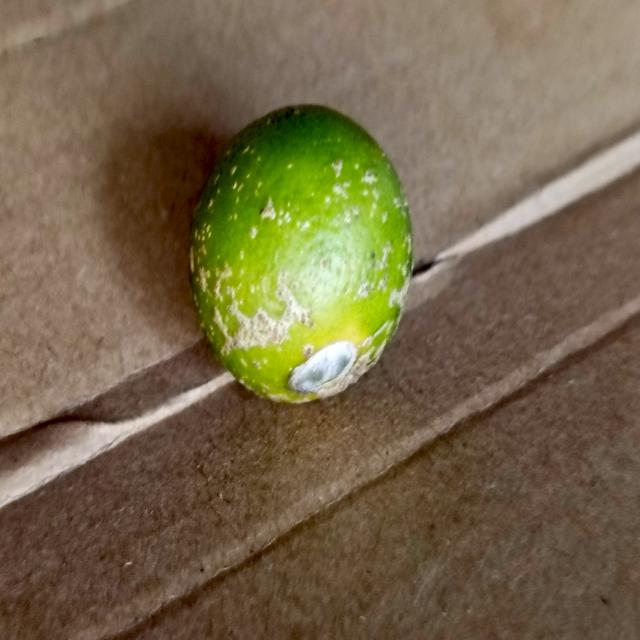scab: (197, 97, 411, 422)
